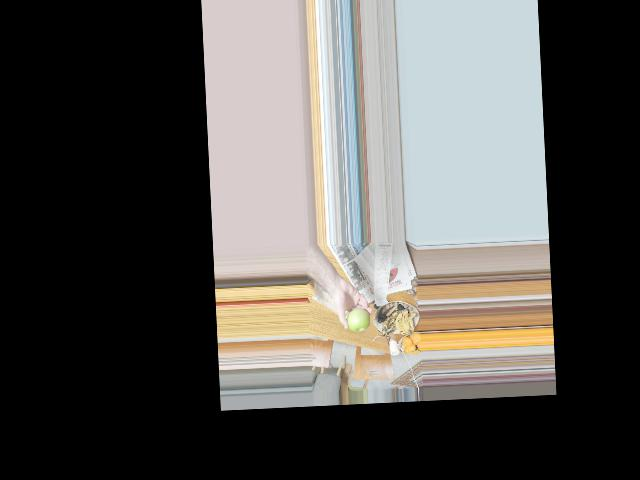apple: (346, 309, 371, 333)
